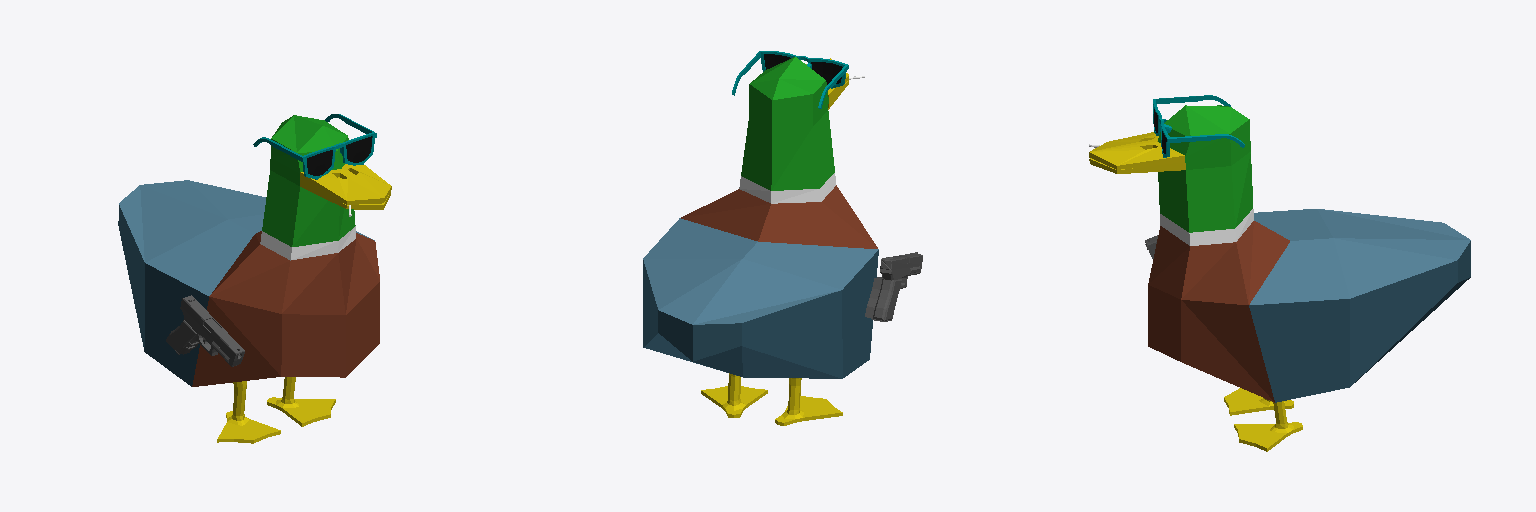
Rendered from duck.obj.
3 renders of one model, left to right at view 1: azimuth 30°, elevation 25°; view 2: azimuth 150°, elevation 25°; view 3: azimuth 270°, elevation 25°, orthographic.
Visible parts, largest first — view 1: Body_Mesh, old_Gun_Mesh.009, Upperbeak_Mesh.004, Sunnies_Mesh.006, Left_Footsies_Mesh.007, Right_Footsies_Mesh.008; view 2: Body_Mesh, old_Gun_Mesh.009, Sunnies_Mesh.006, Left_Footsies_Mesh.007, Right_Footsies_Mesh.008; view 3: Body_Mesh, Upperbeak_Mesh.004, Right_Footsies_Mesh.008, Sunnies_Mesh.006, Left_Footsies_Mesh.007, Lowerbeak_Mesh.003.
Boxes of the visible parts, x1=… form: Body_Mesh: x1=118, y1=115, x2=379, y2=386; old_Gun_Mesh.009: x1=166, y1=295, x2=244, y2=366; Upperbeak_Mesh.004: x1=300, y1=164, x2=391, y2=204; Sunnies_Mesh.006: x1=253, y1=114, x2=376, y2=179; Left_Footsies_Mesh.007: x1=217, y1=381, x2=280, y2=443; Right_Footsies_Mesh.008: x1=267, y1=377, x2=335, y2=426; Body_Mesh: x1=643, y1=57, x2=878, y2=378; old_Gun_Mesh.009: x1=865, y1=252, x2=922, y2=321; Sunnies_Mesh.006: x1=732, y1=51, x2=848, y2=108; Left_Footsies_Mesh.007: x1=775, y1=378, x2=842, y2=425; Right_Footsies_Mesh.008: x1=701, y1=373, x2=767, y2=417; Body_Mesh: x1=1148, y1=105, x2=1470, y2=402; Upperbeak_Mesh.004: x1=1089, y1=132, x2=1184, y2=169; Right_Footsies_Mesh.008: x1=1234, y1=401, x2=1302, y2=451; Sunnies_Mesh.006: x1=1153, y1=95, x2=1244, y2=157; Left_Footsies_Mesh.007: x1=1224, y1=388, x2=1293, y2=415; Lowerbeak_Mesh.003: x1=1089, y1=158, x2=1185, y2=173.
Size of the model in its own units: 0.6663 by 0.9825 by 1.06.